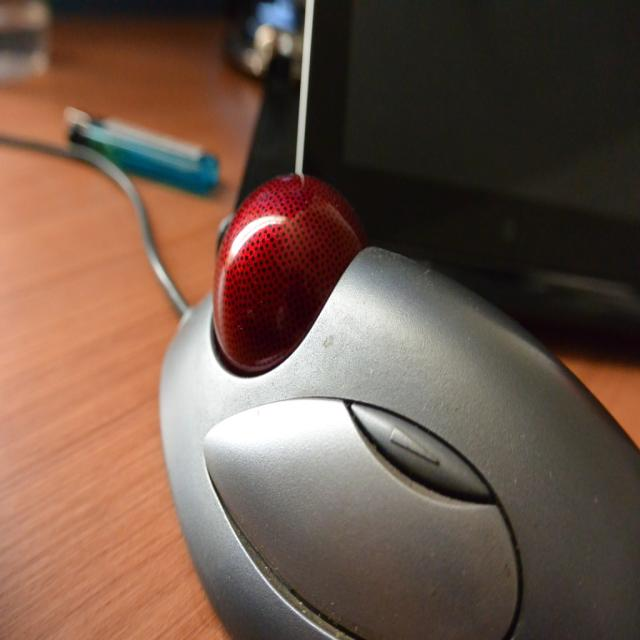Computer-mouse: (156, 164, 640, 639)
